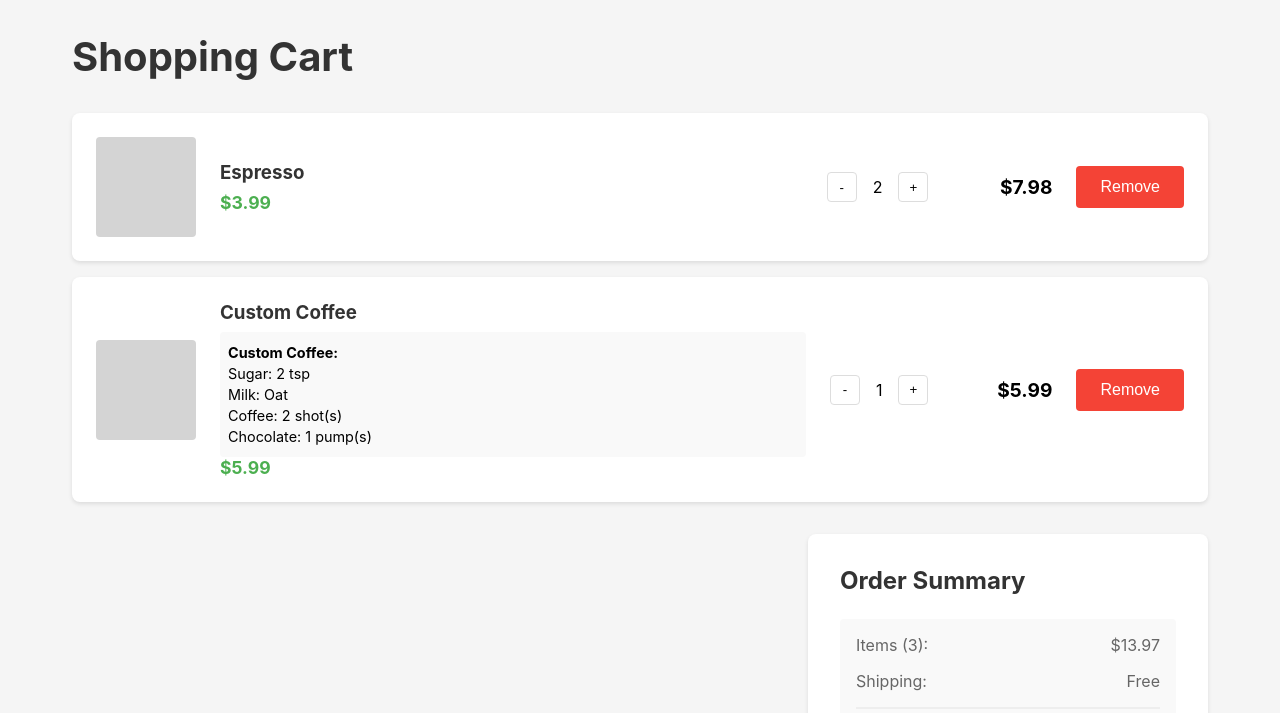
Test: Cart Page › removes item from cart
Click the button "Remove" next to "7.98": click(1130, 187) [1076,166,1184,208]
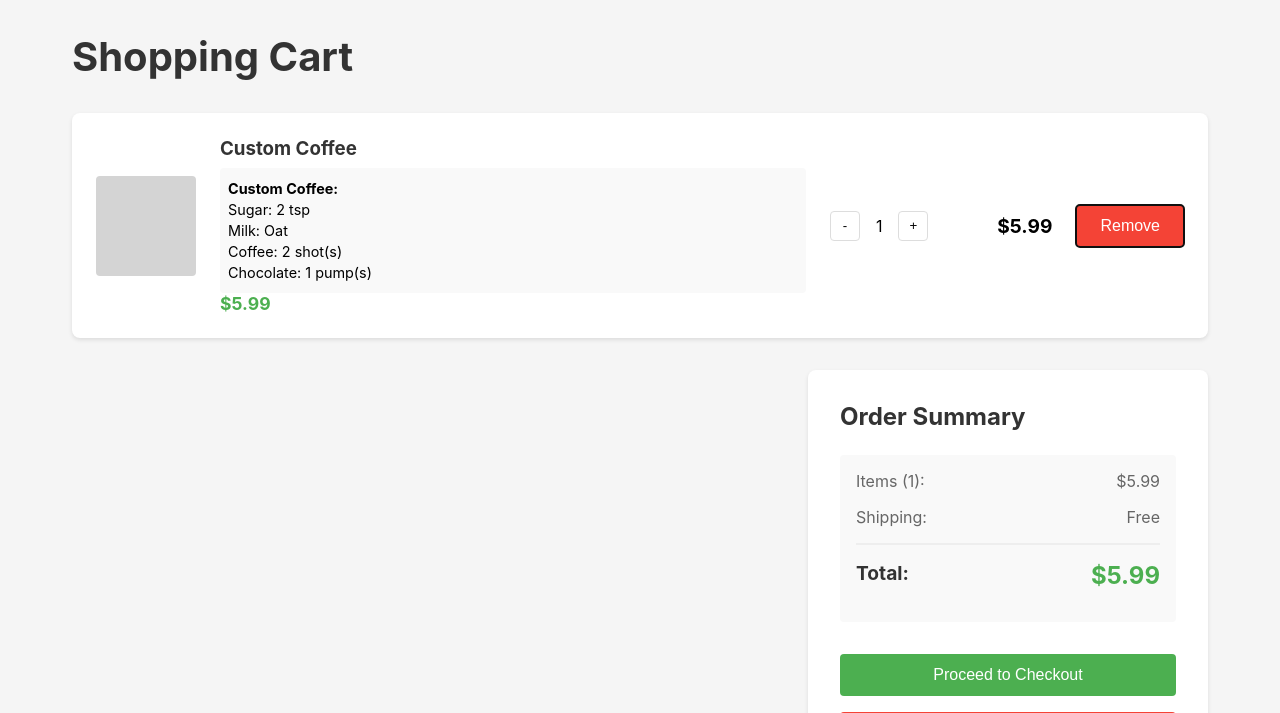
expect the heading "Espresso" is gone: met
